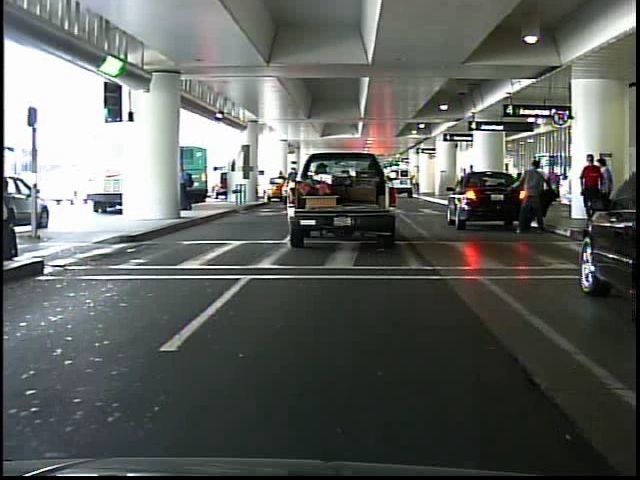person: (508, 148, 549, 240), (578, 154, 606, 231)
